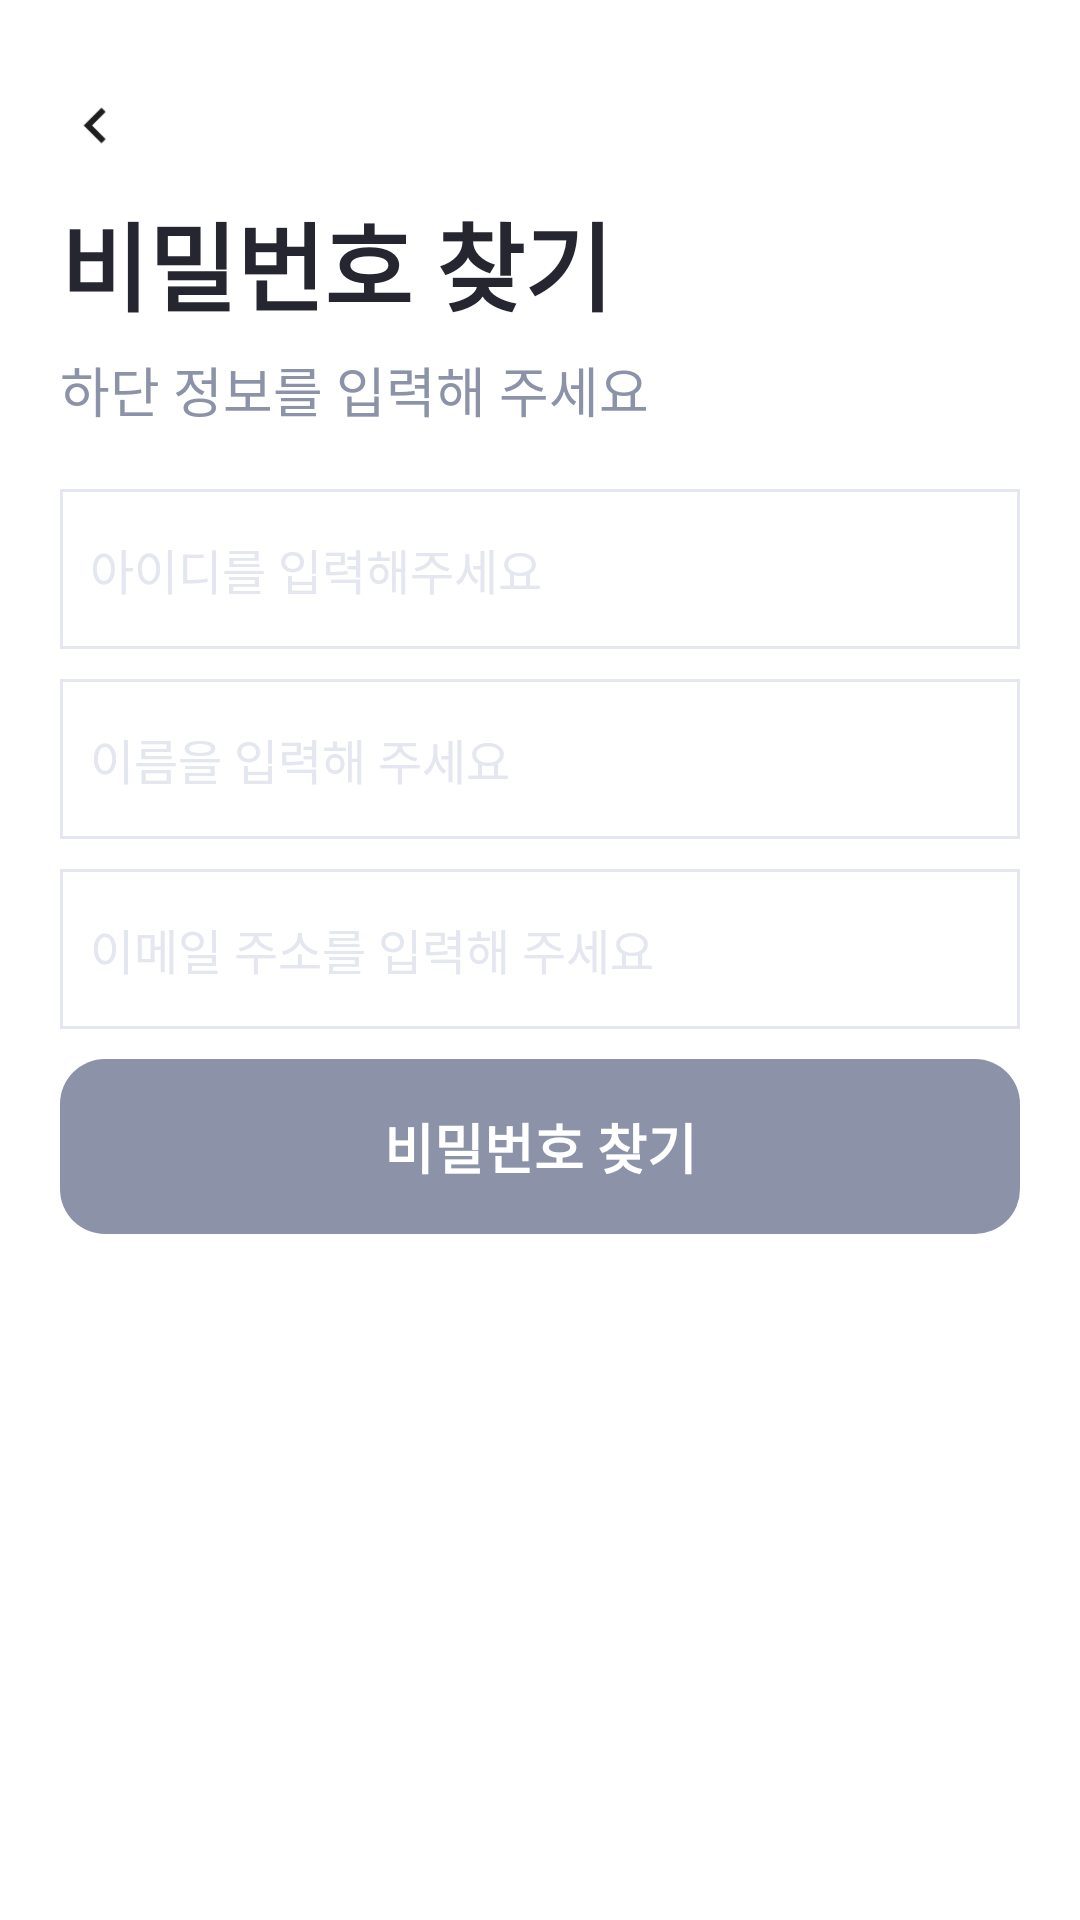

Where to tap for icons on this 1080px x 1920px app screen, as (x,y):
back: (94,125)
